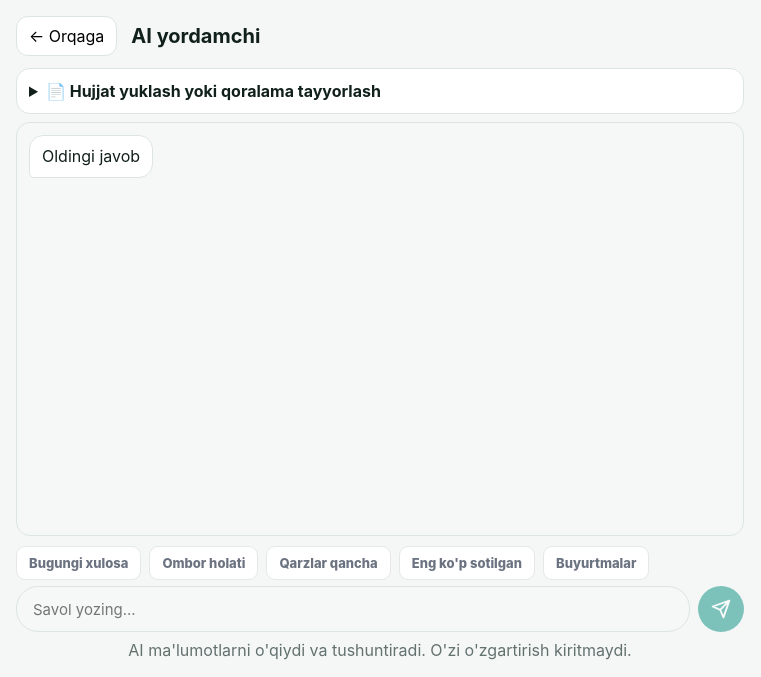
Test: AIAssistant › loads history and sends a v1656 question
Check: the text "Oldingi javob" is shown, box [29,135,153,178]
Type "Bugun qanday?" into the field labelled "Savol yozing" at (353, 609), box [16,586,690,632]
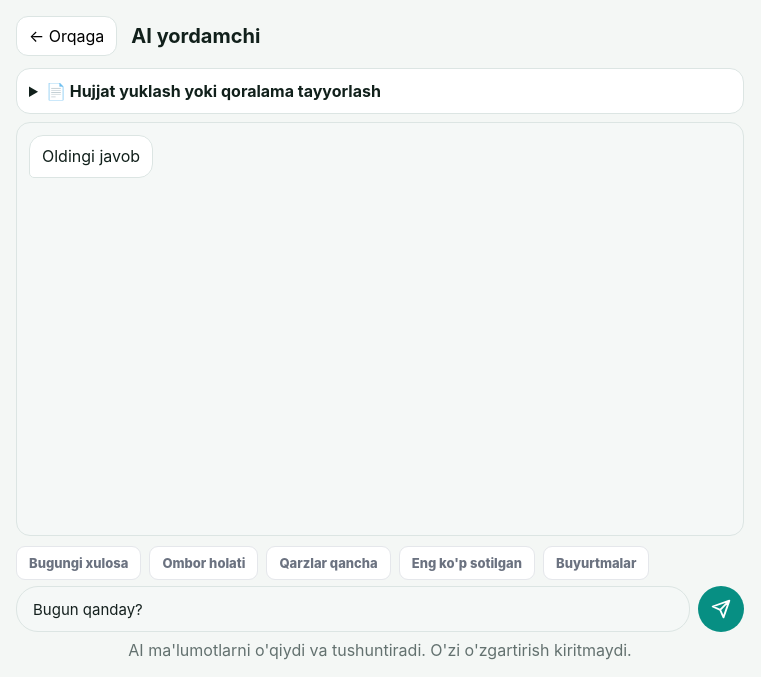
Click the button named "Yuborish" at (721, 609), box [698,586,744,632]
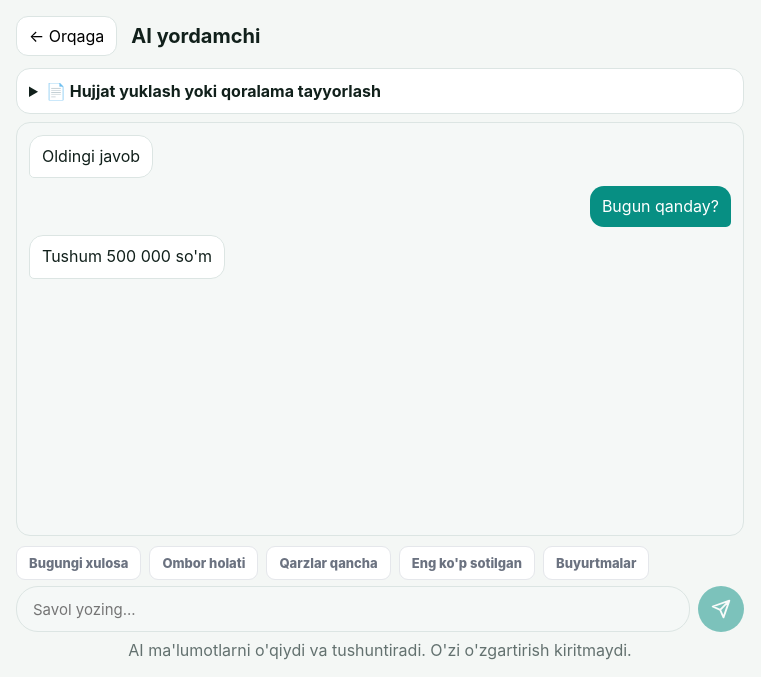
Check: the text "AI ma'lumotlarni o'qiydi va tushuntiradi. O'zi o'zgartirish kiritmaydi." is shown, box [128,640,632,660]
Check: the text "Tushum 500 000 so'm" is shown, box [29,235,225,279]
